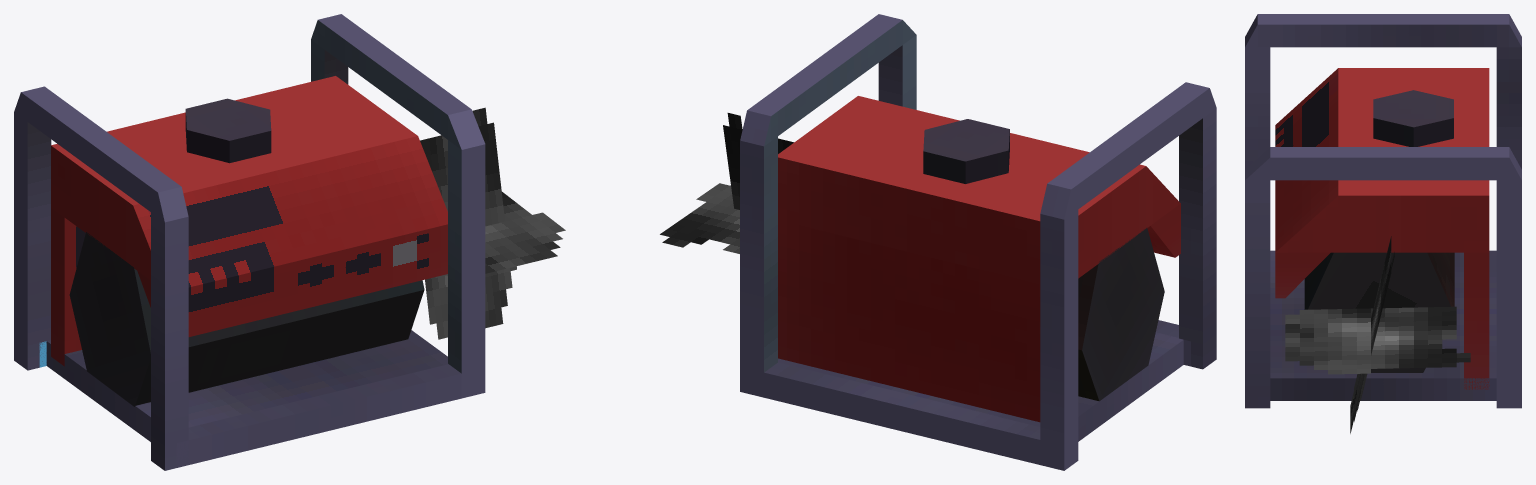
The model's file is generator.gltf.
3 views of the same model, side by side, from view 1: azimuth 30°, elevation 25°; view 2: azimuth 150°, elevation 25°; view 3: azimuth 270°, elevation 25° (orthographic). The views are drawn at different scales.
Visible parts, largest first — view 1: cuboid (×5), cylinder (×2), plane; view 2: cuboid (×5), cylinder (×2), plane; view 3: cuboid (×5), cylinder (×2), plane.
Boxes of the visible parts, x1,y1,x2,y2 form: cuboid (×5): (14, 14, 485, 470); cylinder (×2): (69, 98, 424, 406); plane: (420, 107, 565, 339); cuboid (×5): (740, 14, 1216, 470); cylinder (×2): (923, 119, 1164, 401); plane: (660, 113, 793, 253); cuboid (×5): (1245, 14, 1521, 408); cylinder (×2): (1304, 90, 1454, 372); plane: (1285, 236, 1470, 433).
Size of the model in its own units: 2.35 by 1.49 by 1.38.
2 materials, 2 textured.
